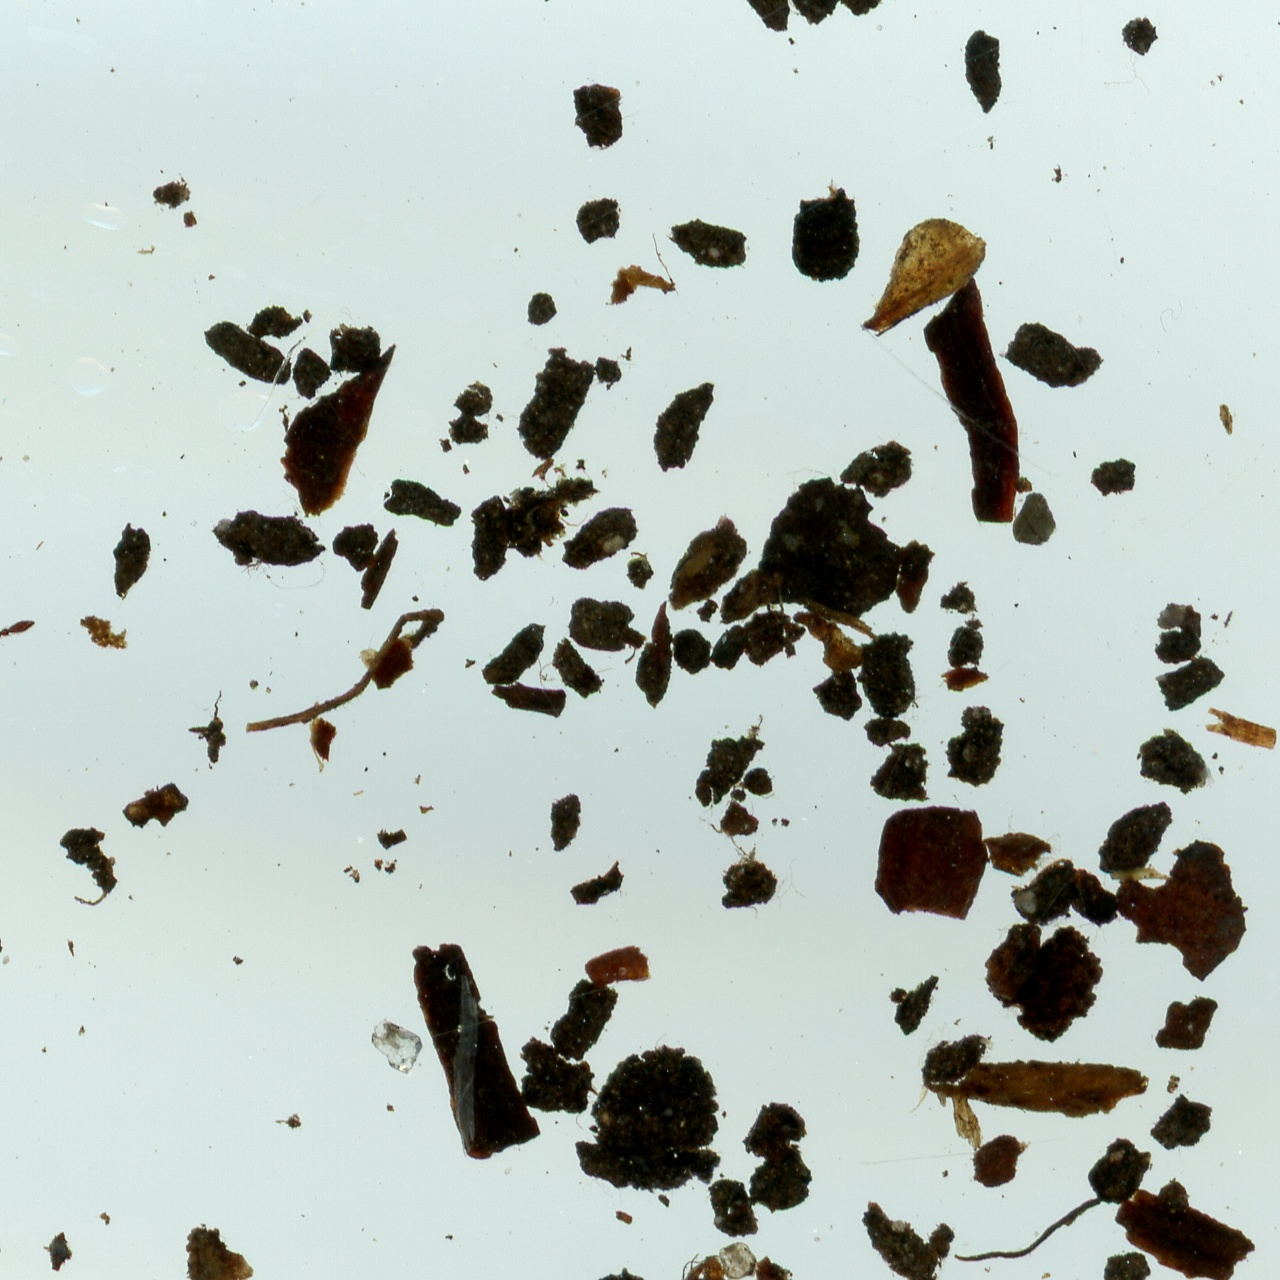arthropod: (0, 327, 57, 759)
